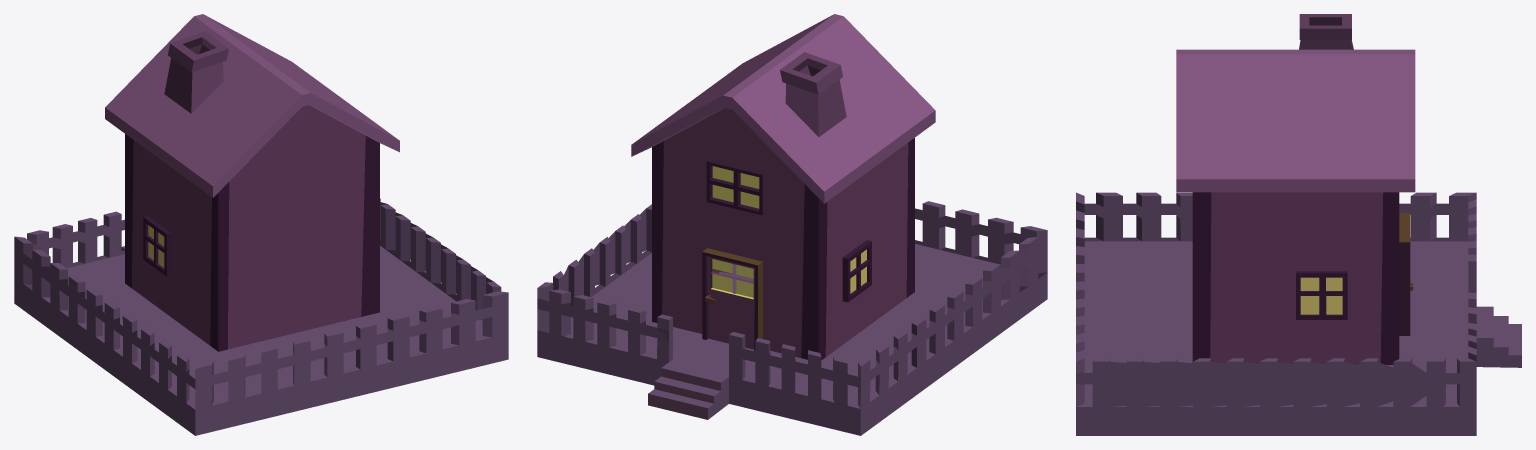
Rendered from mor ev.fbx.
3 renders of one model, left to right at view 1: azimuth 30°, elevation 25°; view 2: azimuth 150°, elevation 25°; view 3: azimuth 270°, elevation 25°, orthographic. The views are drawn at different scales.
Parts seen in each view (by area): view 1: Cube.002; view 2: Cube.002; view 3: Cube.002.
Boxes of the visible parts, x1,y1,x2,y2 form: Cube.002: (14, 14, 508, 435); Cube.002: (537, 14, 1047, 435); Cube.002: (1076, 14, 1521, 435).
Size of the model in its own units: 1268 by 1088 by 1411.
